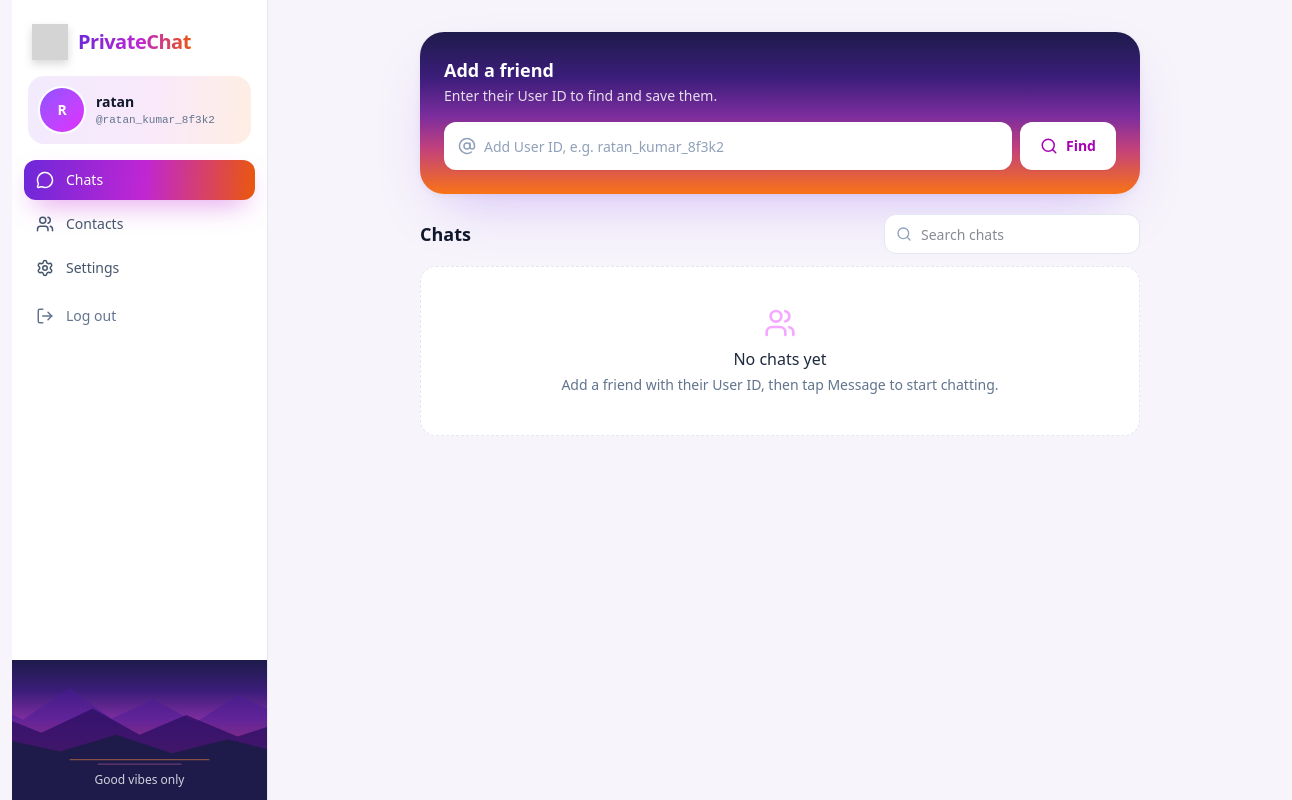
Scenario: add by User ID (screens 4 and 5) › reports an unknown User ID
The image size is (1292, 800).
In the field named "Friend's User ID": (728, 146) [444,122,1012,170], type "ghost_user_00000"
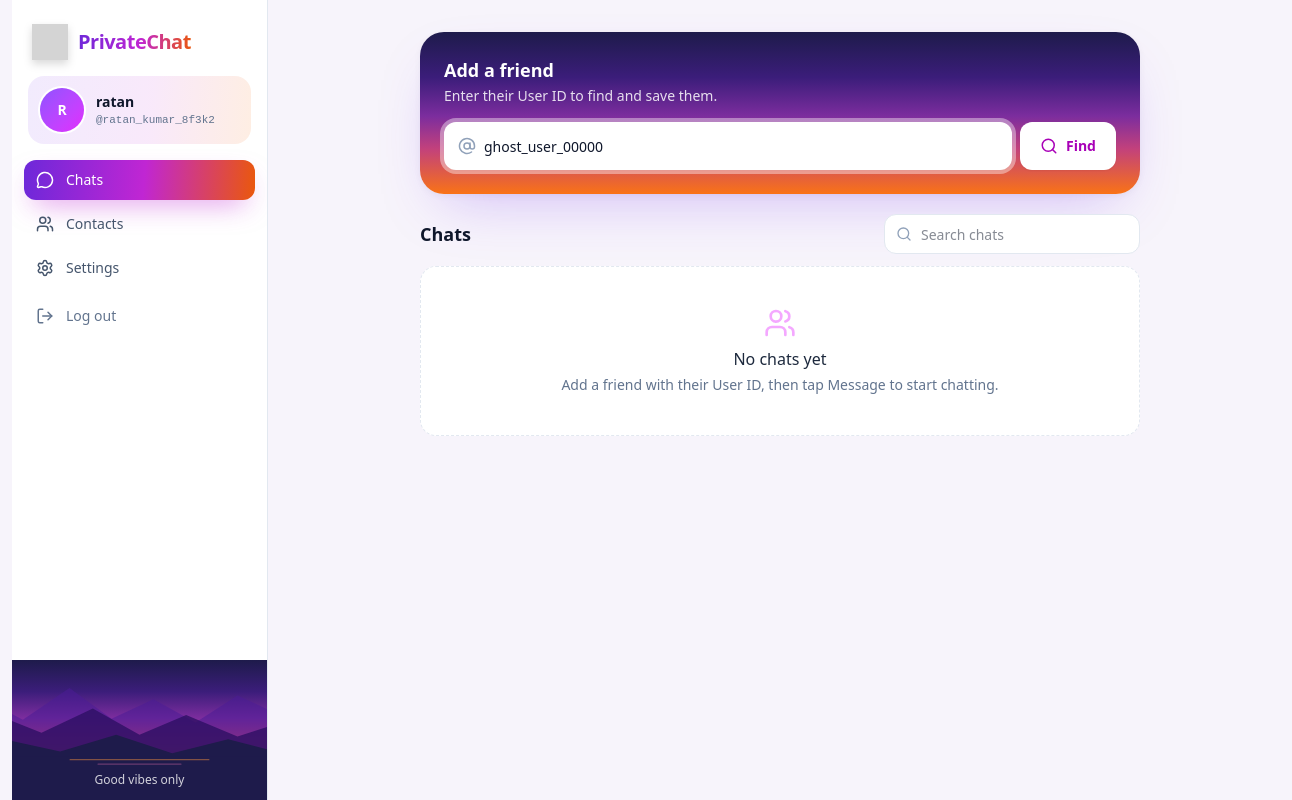
Click the button "Find": (1068, 146) [1020,122,1116,170]
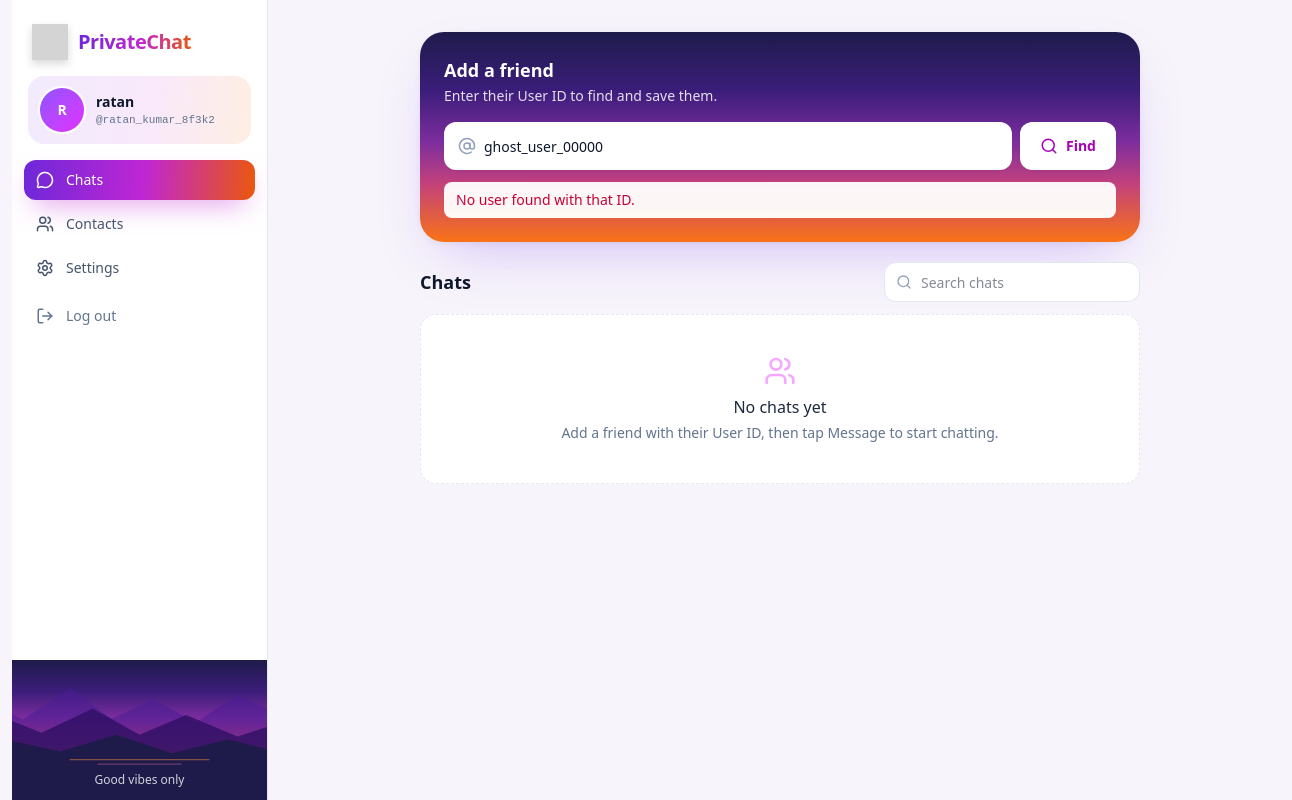
Check: the text "No user found with that ID." is shown, box [444,182,1116,218]
